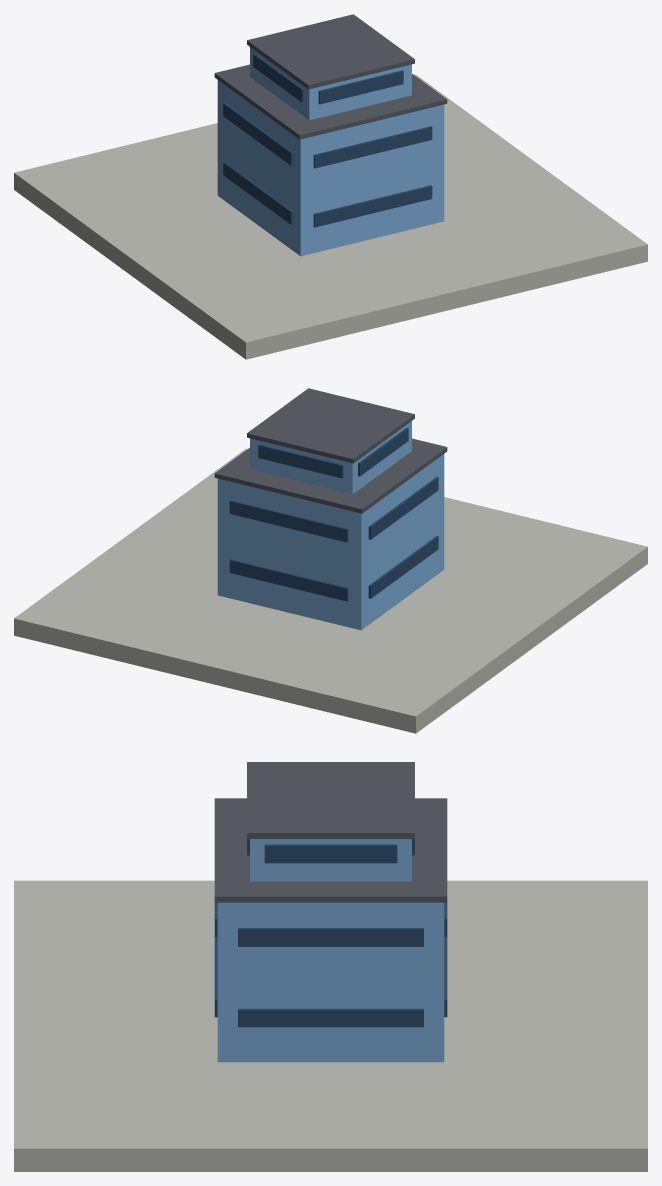
File: finance_rent_1.glb
3 renders of one model, top to bottom at view 1: azimuth 30°, elevation 25°; view 2: azimuth 150°, elevation 25°; view 3: azimuth 270°, elevation 25°, orthographic. The views are drawn at different scales.
Parts seen in each view (by area): view 1: finance_rent_1; view 2: finance_rent_1; view 3: finance_rent_1.
Boxes of the visible parts, x1,y1,x2,y2 form: finance_rent_1: (14, 14, 647, 359); finance_rent_1: (14, 388, 647, 733); finance_rent_1: (14, 762, 647, 1171).
Size of the model in its own units: 1.96 by 0.82 by 1.96.
